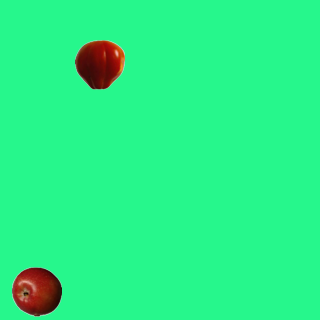Apple Braeburn: (11, 266, 61, 316)
Tomato 1: (74, 39, 124, 89)
